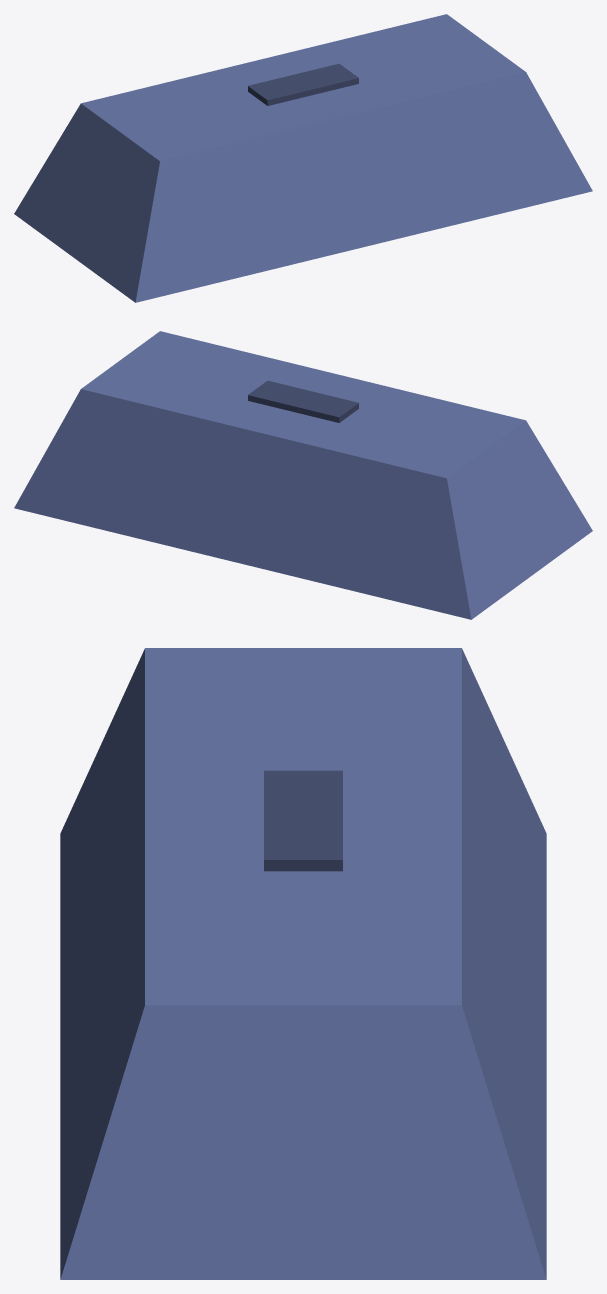
The model's file is mithrilBar.glb.
The picture shows the model from 3 angles, top to bottom: view 1: azimuth 30°, elevation 25°; view 2: azimuth 150°, elevation 25°; view 3: azimuth 270°, elevation 25°; orthographic projection. The views are drawn at different scales.
Visible parts, largest first — view 1: mithrilBar; view 2: mithrilBar; view 3: mithrilBar.
Boxes of the visible parts, bbox=[...] form: mithrilBar: bbox=[14, 14, 592, 302]; mithrilBar: bbox=[14, 331, 592, 619]; mithrilBar: bbox=[60, 648, 546, 1279].
Bounding box in the file's own units: 1 × 0.252 × 0.46.
